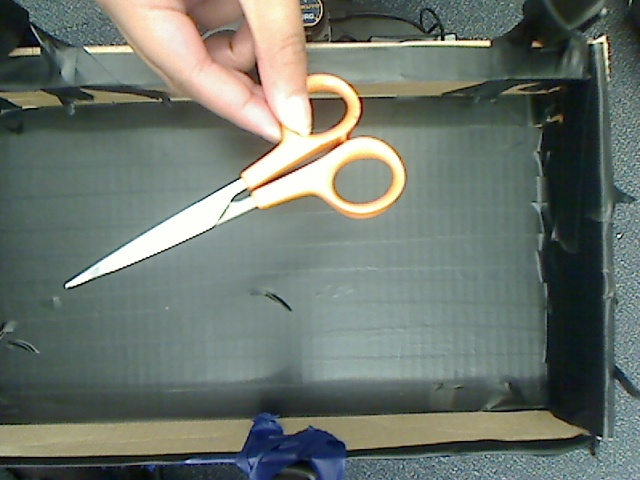scissors: (53, 62, 410, 298)
